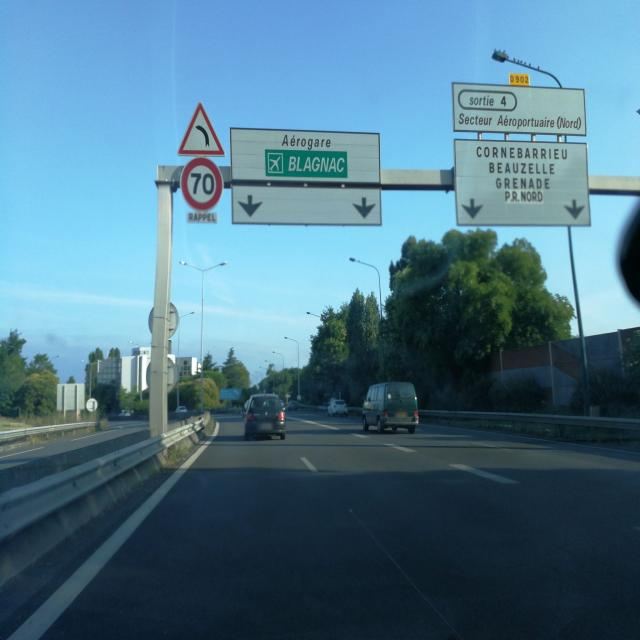car: (360, 381, 420, 434), (243, 394, 287, 442), (326, 398, 348, 418), (175, 405, 188, 415)
